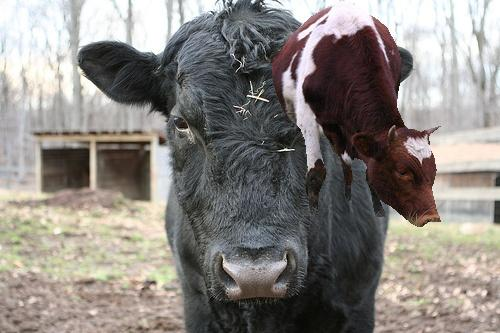tampered: (273, 1, 441, 227)
